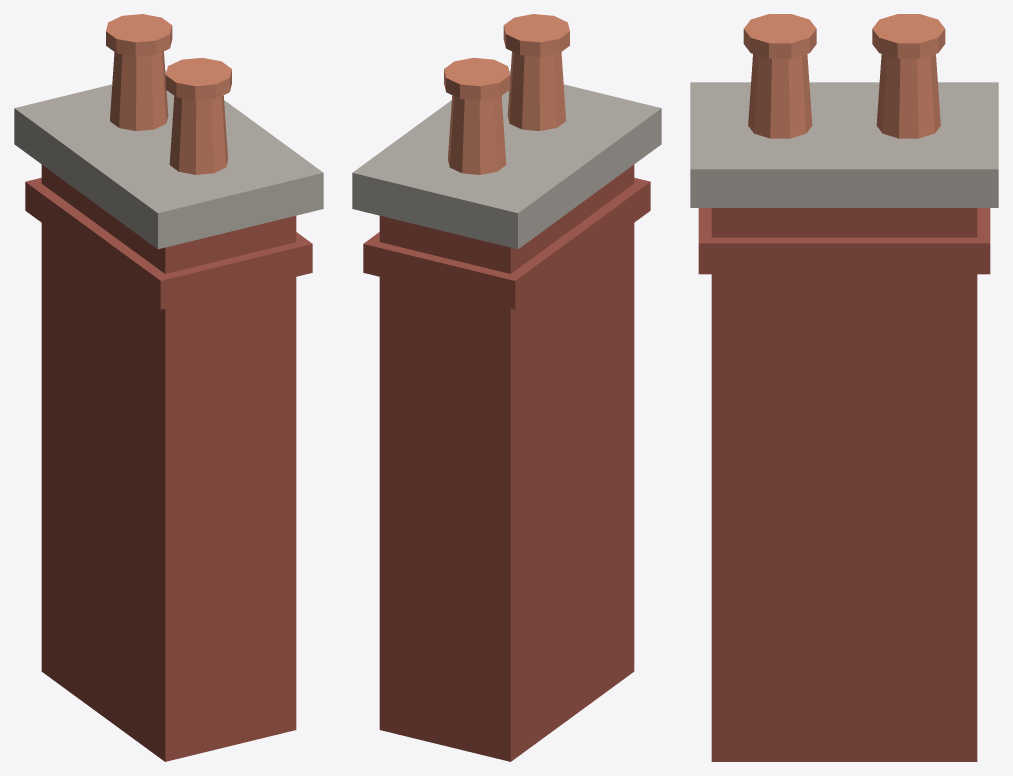
File: chimney.glb
3 renders of one model, left to right at view 1: azimuth 30°, elevation 25°; view 2: azimuth 150°, elevation 25°; view 3: azimuth 270°, elevation 25°, orthographic. The views are drawn at different scales.
Parts seen in each view (by area): view 1: chimney; view 2: chimney; view 3: chimney.
Boxes of the visible parts, x1=… form: chimney: x1=14, y1=14, x2=323, y2=761; chimney: x1=352, y1=14, x2=661, y2=761; chimney: x1=690, y1=14, x2=998, y2=761.
Bounding box in the file's own units: 0.48 × 1.8 × 0.72.
